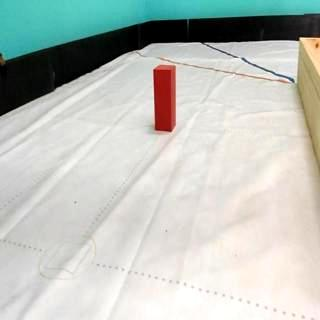redbox: (154, 64, 175, 132)
